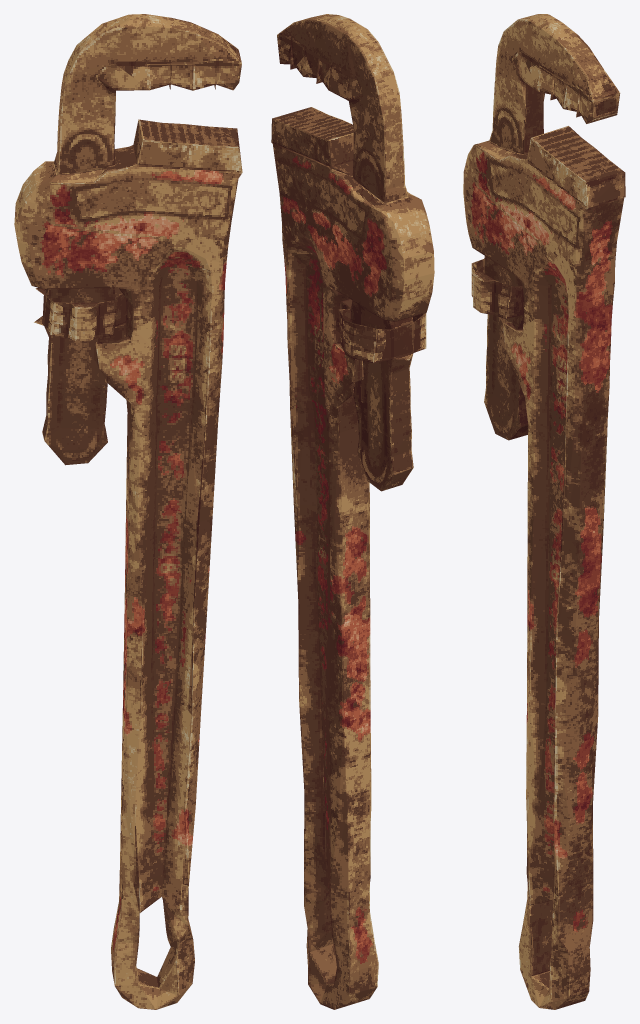
The model's file is wrench.glb.
3 views of the same model, side by side, from view 1: azimuth 30°, elevation 25°; view 2: azimuth 150°, elevation 25°; view 3: azimuth 330°, elevation 25° (orthographic).
Visible parts, largest first — view 1: model_m; view 2: model_m; view 3: model_m.
Boxes of the visible parts, x1,y1,x2,y2 form: model_m: (14, 14, 242, 1009); model_m: (271, 14, 434, 1009); model_m: (463, 14, 625, 1009).
Size of the model in its own units: 40.15 by 197 by 24.31.
1 material, 1 textured.
